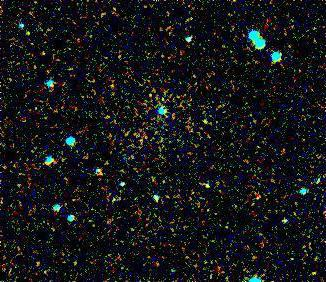star: (13, 18, 43, 48)
